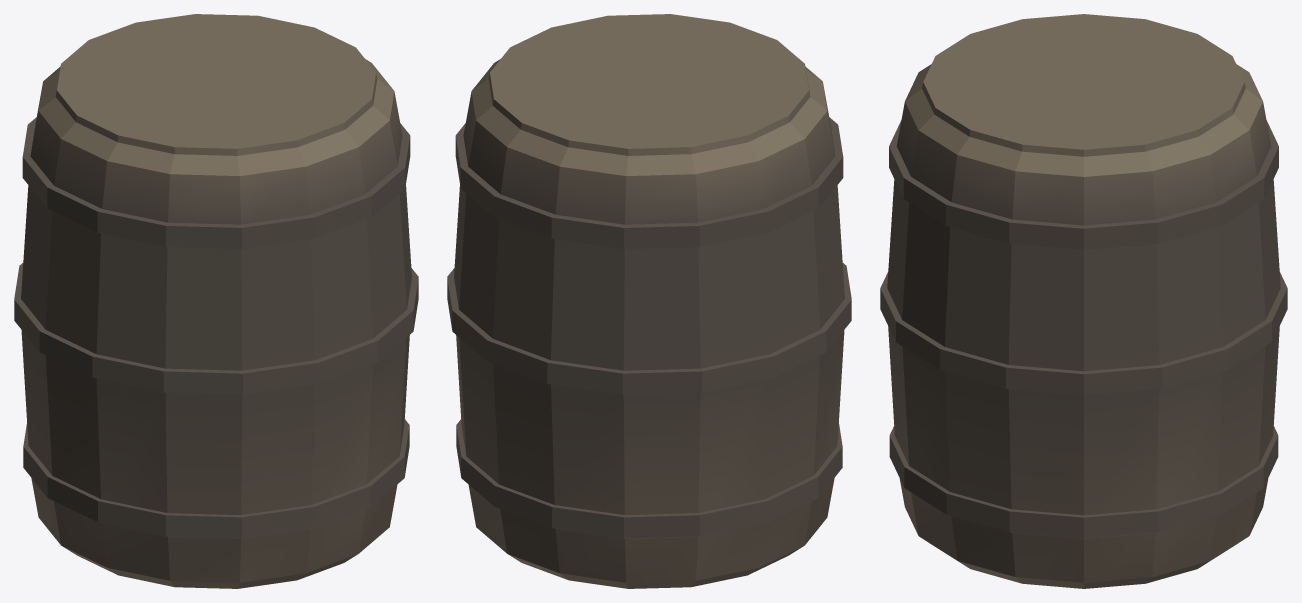
File: prop_taru.glb
The picture shows the model from 3 angles, left to right: view 1: azimuth 30°, elevation 25°; view 2: azimuth 150°, elevation 25°; view 3: azimuth 270°, elevation 25°; orthographic projection.
Visible parts, largest first — view 1: prop_taru; view 2: prop_taru; view 3: prop_taru.
Part boxes in pixels (box(x1,y1,x2,y2)): prop_taru: box(14, 14, 418, 588); prop_taru: box(447, 14, 851, 588); prop_taru: box(880, 14, 1287, 588).
Bounding box in the file's own units: 0.664 × 0.79 × 0.664.
